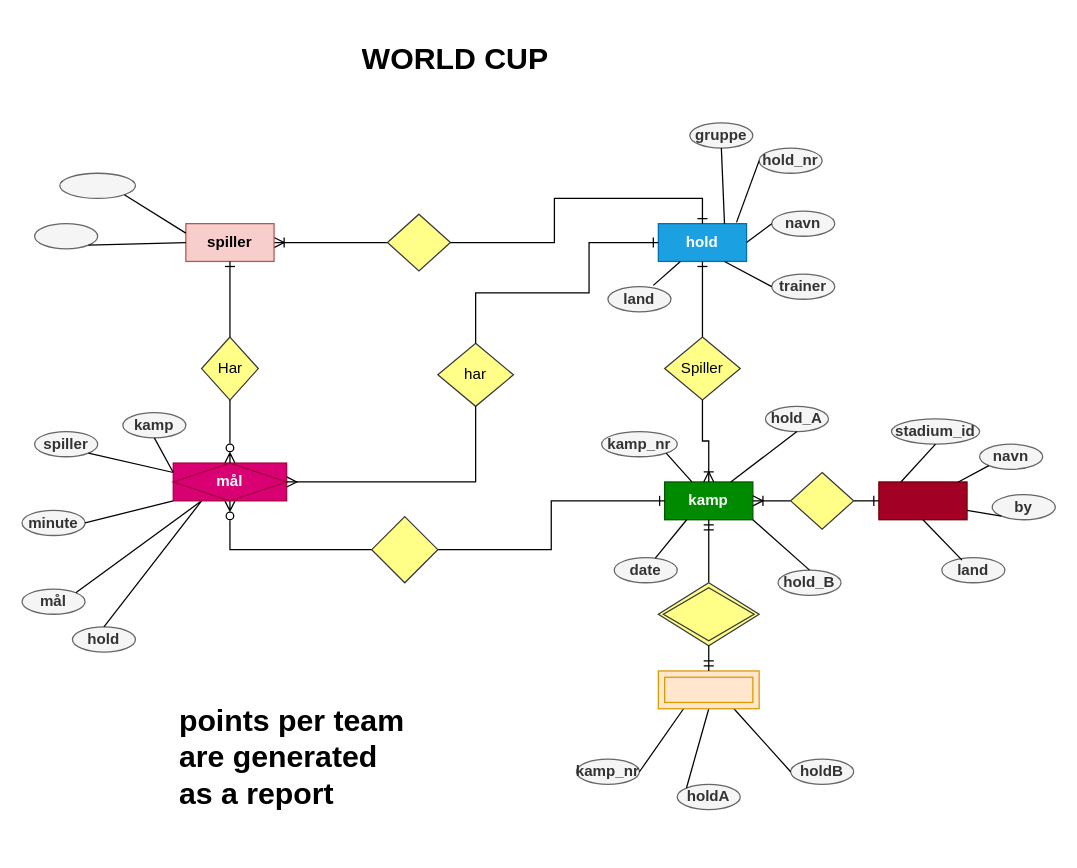
Image size: 1077x868. Some labels were removed from this diagram. Here are the shapes that lost their labels. From the top down, the centre of each, then its label:
[97,185]: spil_navn
[65,235]: spil_nr
[418,242]: Tilhører
[821,500]: Spillet
[922,500]: stadium
[404,549]: Havde
[708,613]: resultere
[708,689]: results
